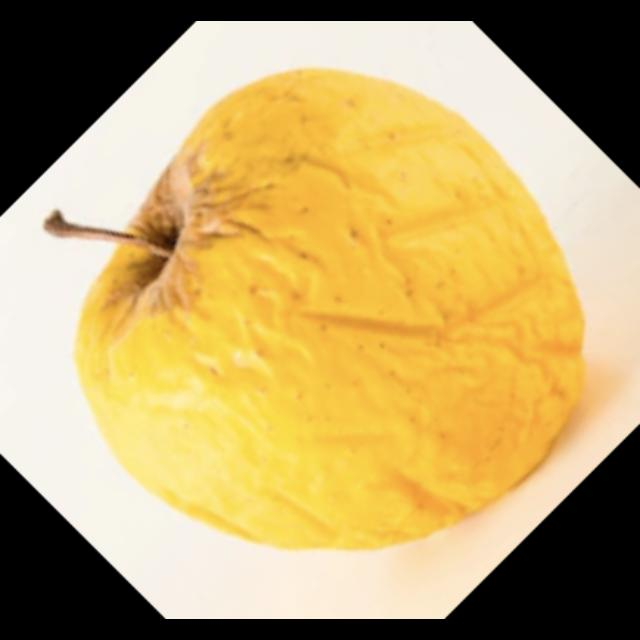Apel Tidak Segar: (74, 64, 584, 556)
